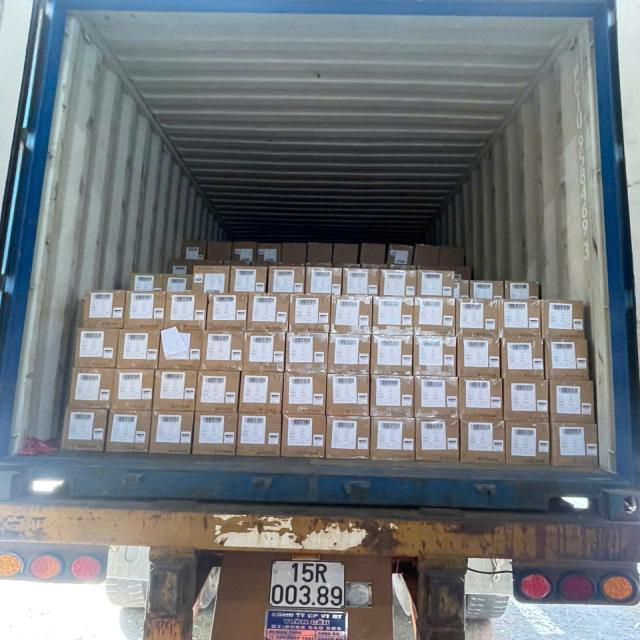Carton: (550, 424, 599, 468), (550, 381, 596, 426), (192, 412, 238, 456), (504, 378, 550, 422), (326, 417, 372, 461), (414, 418, 460, 462), (462, 419, 508, 463), (370, 418, 416, 462), (282, 415, 328, 458), (505, 424, 551, 467), (236, 414, 280, 458), (107, 410, 152, 453), (414, 376, 460, 418), (196, 370, 240, 413), (151, 411, 195, 454), (282, 372, 326, 415), (502, 336, 546, 379), (62, 408, 106, 451), (327, 374, 372, 416), (545, 338, 590, 380), (456, 336, 501, 378), (370, 375, 415, 417), (413, 334, 456, 377), (112, 370, 156, 412), (239, 372, 283, 414), (458, 378, 502, 420), (159, 329, 203, 371), (154, 371, 197, 413), (329, 334, 372, 376), (71, 368, 115, 409), (285, 333, 327, 375), (371, 334, 413, 376), (76, 328, 120, 368), (118, 329, 160, 370), (202, 331, 244, 372), (245, 332, 287, 372), (332, 294, 374, 334), (500, 299, 543, 338), (79, 290, 123, 328), (249, 294, 291, 333), (543, 301, 586, 339), (455, 300, 499, 337), (125, 292, 166, 331), (290, 296, 332, 334), (414, 297, 456, 334), (164, 294, 207, 330), (207, 295, 247, 332), (370, 295, 412, 330), (416, 269, 458, 298), (193, 264, 230, 294), (230, 266, 268, 295), (268, 267, 306, 296), (378, 269, 416, 297), (343, 268, 379, 297), (306, 267, 340, 297), (127, 273, 163, 294), (506, 281, 543, 301), (161, 274, 192, 295)
